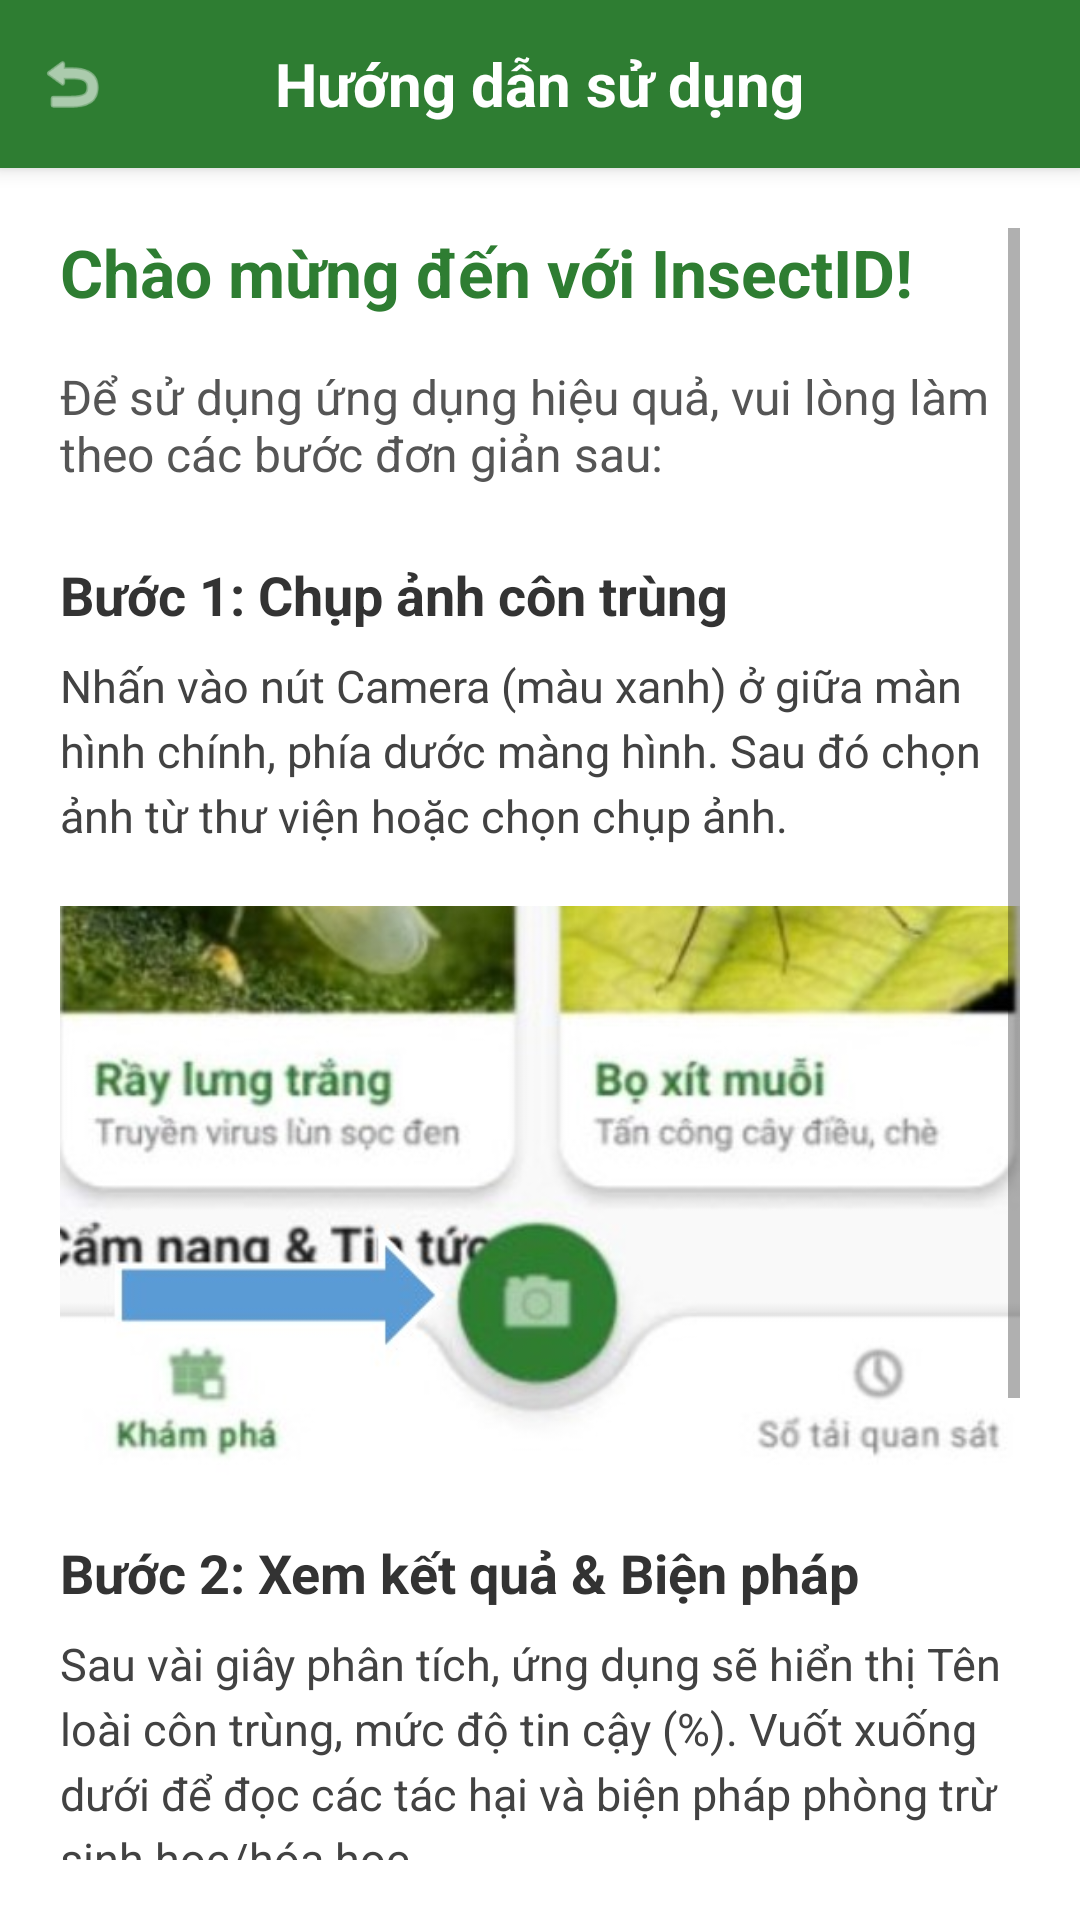

Point at icon controls on the screen. Image size 1080*1920, points as [x,y].
revert: [73,84]
